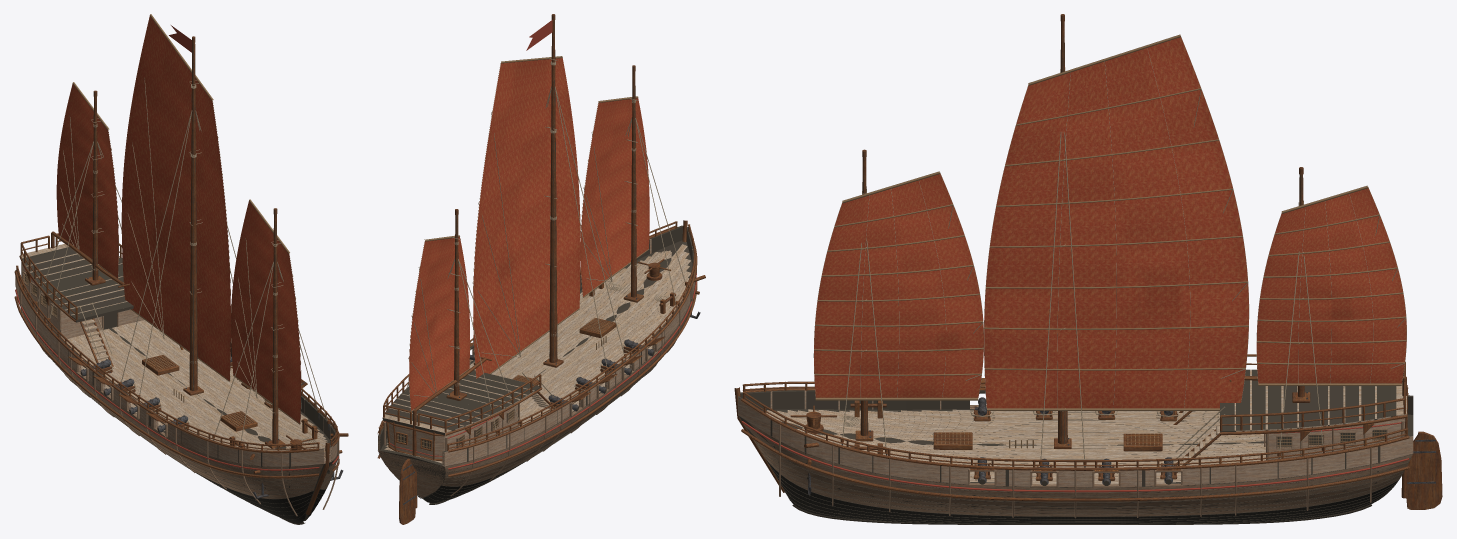
Rendered from fuchuan-lod0.glb.
The picture shows the model from 3 angles, left to right: view 1: azimuth 30°, elevation 25°; view 2: azimuth 150°, elevation 25°; view 3: azimuth 270°, elevation 25°; orthographic projection. The views are drawn at different scales.
Parts seen in each view (by area): view 1: sail_1, hull, deck, sail_0, sail_2, shadow_deck, deck_fittings, bulwark_rails, mast_timber_1, shadow_hull, sterncastle, mast_timber_0 (+8 smaller); view 2: sail_1, deck, hull, sail_0, sail_2, shadow_deck, deck_fittings, shadow_hull, bulwark_rails, mast_timber_1, mast_timber_0, stern_transom (+9 smaller); view 3: sail_1, hull, sail_0, sail_2, deck, shadow_hull, shadow_deck, bulwark_rails, deck_fittings, rudder_blade, sterncastle, rigging_1.
Boxes of the visible parts, x1,y1,x2,y2 form: sail_1: (121,14,231,381); hull: (14,270,339,524); deck: (19,244,330,450); sail_0: (231,199,301,424); sail_2: (56,82,119,278); shadow_deck: (22,247,133,322); deck_fittings: (21,262,348,498); bulwark_rails: (16,233,338,452); mast_timber_1: (189,43,197,390); shadow_hull: (15,270,337,521); sterncastle: (23,266,144,339); mast_timber_0: (272,214,278,443); sail_1: (472,56,580,378); deck: (382,244,690,463); hull: (377,220,697,504); sail_0: (580,96,649,297); sail_2: (408,235,469,411); shadow_deck: (383,370,540,435); deck_fittings: (383,259,705,461); shadow_hull: (378,225,695,502); bulwark_rails: (378,221,695,451); mast_timber_1: (549,20,557,362); mast_timber_0: (631,71,636,297); stern_transom: (388,423,444,458); sail_1: (984,34,1249,410); hull: (734,387,1413,524); sail_0: (813,171,983,400); sail_2: (1256,185,1406,386); deck: (766,369,1407,484); shadow_hull: (738,390,1413,523); shadow_deck: (1220,369,1396,432); bulwark_rails: (742,354,1408,467); deck_fittings: (790,385,1407,494); rudder_blade: (1406,431,1442,509); sterncastle: (1266,418,1404,460); rigging_1: (1039,132,1086,473).
Bounding box in the file's own units: 10.4 × 26.65 × 33.55.
Materials: 13 (8 with a texture image).
